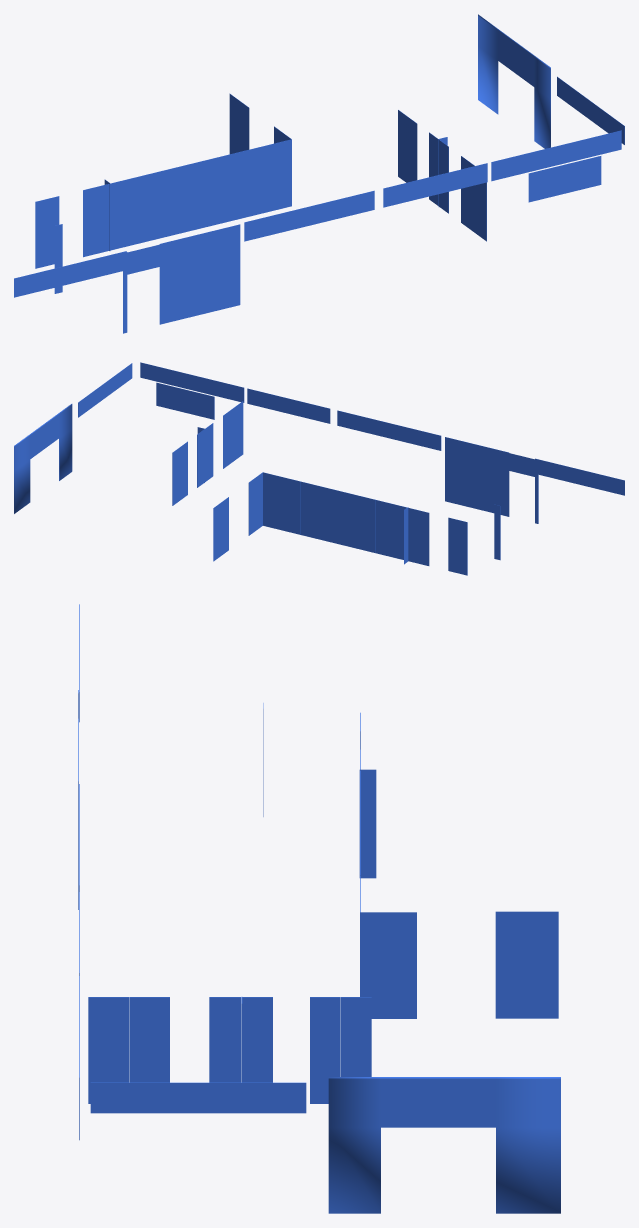
The model's file is EvonoveGlassTransparent.obj.
The picture shows the model from 3 angles, top to bottom: view 1: azimuth 30°, elevation 25°; view 2: azimuth 150°, elevation 25°; view 3: azimuth 270°, elevation 25°; orthographic projection. The views are drawn at different scales.
Visible parts, largest first — view 1: FinestraScalette_Cube.048, VetroLabUfficio.001_Cube.056, Cube_Cube.051, Finestra_Cube.052, Cube.051_Cube.190, Finestra.003_Cube.179, Finestra.001_Cube.053, Cube_001.028_Cube.496, Cube_001.018_Cube.467, Cube_001.016_Cube.465, Cube_001.015_Cube.464, Cube_001.019_Cube.468 (+14 smaller); view 2: FinestraScalette_Cube.048, VetroLabUfficio.001_Cube.056, Finestra_Cube.052, Cube_Cube.051, Finestra.003_Cube.179, Cube.051_Cube.190, Finestra.001_Cube.053, Cube_001.028_Cube.496, Cube_001.011_Cube.471, Cube_001.015_Cube.464, Cube_001.019_Cube.468, Cube_001.018_Cube.467 (+15 smaller); view 3: VetroLabUfficio.001_Cube.056, Finestra.002_Cube.054, Cube_001.012_Cube.461, Cube_001.013_Cube.462, Cube_001.027_Cube.477, Cube_001.026_Cube.476, Cube_001.023_Cube.473, Cube_001.024_Cube.474, Cube_001.025_Cube.475, Cube_001.022_Cube.472, Cube.017_Cube.008.
Part boxes in pixels (<box>): FinestraScalette_Cube.048: <box>123,224,240,333</box>; VetroLabUfficio.001_Cube.056: <box>478,14,550,148</box>; Cube_Cube.051: <box>491,130,621,181</box>; Finestra_Cube.052: <box>244,190,374,241</box>; Cube.051_Cube.190: <box>528,156,601,202</box>; Finestra.003_Cube.179: <box>14,251,126,297</box>; Finestra.001_Cube.053: <box>383,163,487,207</box>; Cube_001.028_Cube.496: <box>83,184,109,257</box>; Cube_001.018_Cube.467: <box>174,162,197,234</box>; Cube_001.016_Cube.465: <box>221,150,244,223</box>; Cube_001.015_Cube.464: <box>245,145,268,217</box>; Cube_001.019_Cube.468: <box>151,168,174,240</box>; FinestraScalette_Cube.048: <box>445,437,538,523</box>; VetroLabUfficio.001_Cube.056: <box>14,404,72,513</box>; Finestra_Cube.052: <box>337,410,441,450</box>; Cube_Cube.051: <box>140,362,244,402</box>; Finestra.003_Cube.179: <box>535,458,624,495</box>; Cube.051_Cube.190: <box>156,382,214,419</box>; Finestra.001_Cube.053: <box>247,388,330,423</box>; Cube_001.028_Cube.496: <box>408,508,429,565</box>; Cube_001.011_Cube.471: <box>448,517,467,575</box>; Cube_001.015_Cube.464: <box>281,477,300,534</box>; Cube_001.019_Cube.468: <box>356,495,375,552</box>; Cube_001.018_Cube.467: <box>337,490,356,548</box>; VetroLabUfficio.001_Cube.056: <box>328,1077,560,1213</box>; Finestra.002_Cube.054: <box>90,1082,306,1113</box>; Cube_001.012_Cube.461: <box>495,911,558,1018</box>; Cube_001.013_Cube.462: <box>360,912,416,1018</box>; Cube_001.027_Cube.477: <box>88,997,128,1103</box>; Cube_001.026_Cube.476: <box>129,997,169,1082</box>; Cube_001.023_Cube.473: <box>310,997,340,1103</box>; Cube_001.024_Cube.474: <box>241,997,272,1082</box>; Cube_001.025_Cube.475: <box>209,997,240,1082</box>; Cube_001.022_Cube.472: <box>341,997,371,1076</box>; Cube.017_Cube.008: <box>359,769,376,878</box>.
Size of the model in its own units: 23.61 by 3.15 by 10.06.
